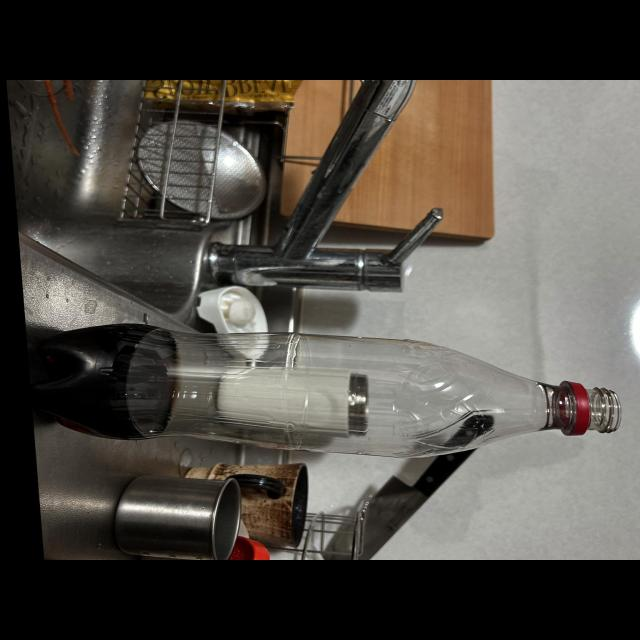low: (33, 324, 620, 458)
